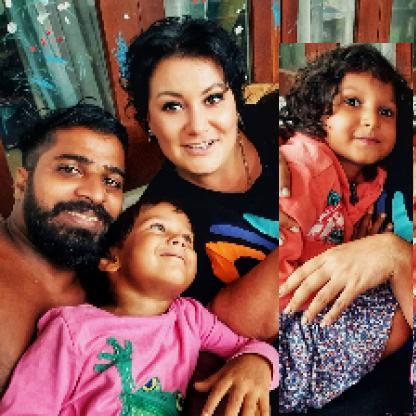child: (1, 196, 287, 415), (280, 44, 415, 415)
